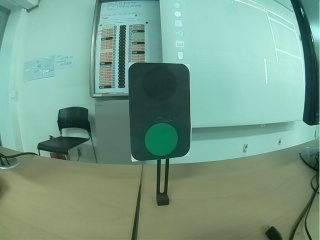green_light: (127, 63, 195, 162)
